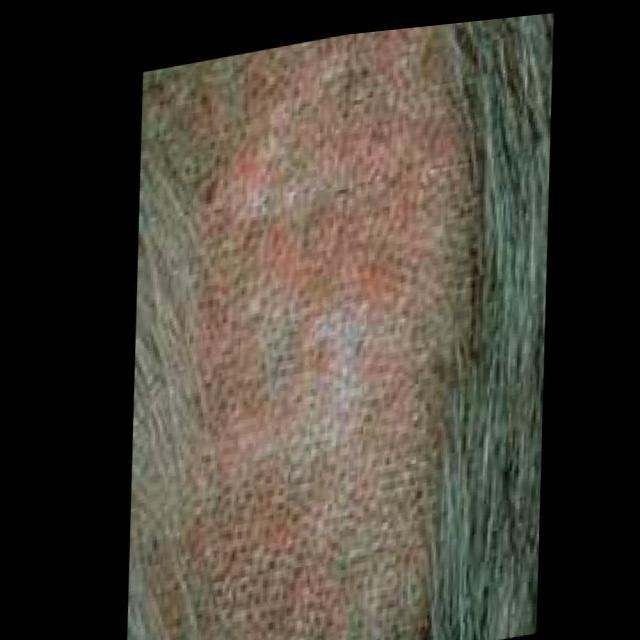allergic dermatitis: (175, 43, 450, 640)
